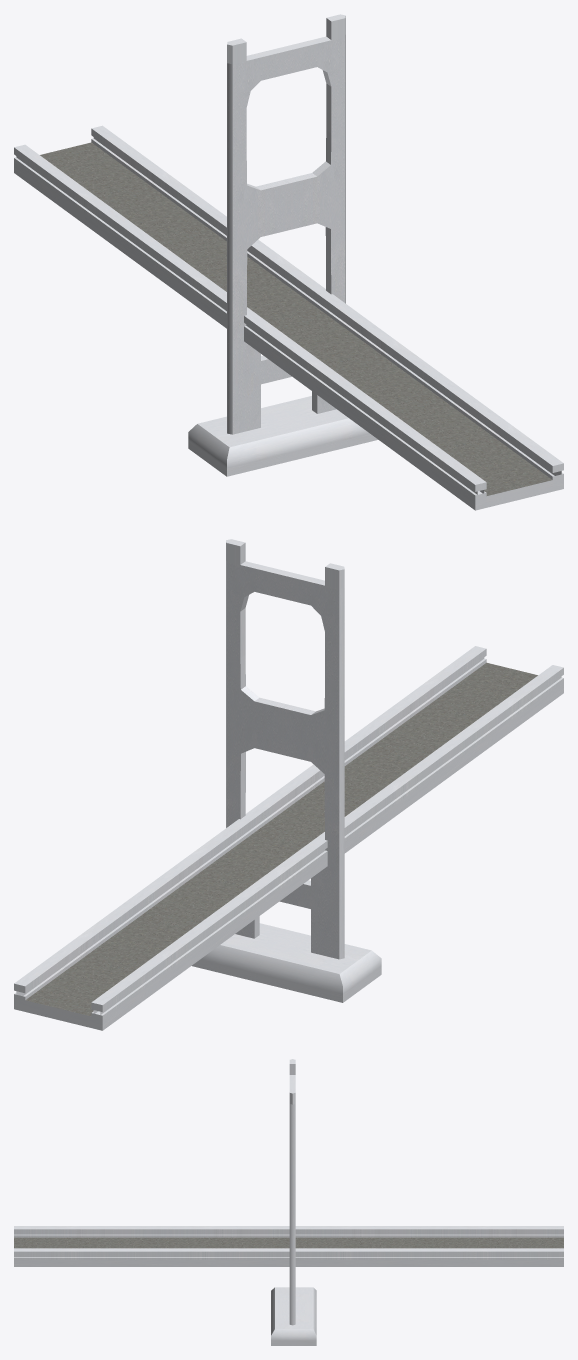
File: BridgeStreat 1.fbx
3 renders of one model, top to bottom at view 1: azimuth 30°, elevation 25°; view 2: azimuth 150°, elevation 25°; view 3: azimuth 270°, elevation 25°, orthographic. The views are drawn at different scales.
Visible parts, largest first — view 1: Box003, Box004, Box001, Box005, Box002, Box006; view 2: Box003, Box005, Box004, Box002, Box001, Box006; view 3: Box001, Box004, Box005, Box002, Box006, Box003.
Part boxes in pixels (x1,y1,x2,y2): Box003: (227,14,345,434); Box004: (359,378,563,510); Box001: (244,294,447,425); Box005: (14,125,217,257); Box002: (128,209,332,340); Box006: (188,396,378,476); Box003: (226,539,344,959); Box005: (14,899,218,1030); Box004: (360,646,563,777); Box002: (130,815,327,946); Box001: (245,730,448,853); Box006: (192,923,381,1002); Box001: (151,1226,289,1266); Box004: (14,1226,151,1266); Box005: (426,1226,563,1266); Box002: (289,1226,427,1266); Box006: (271,1287,316,1345); Box003: (289,1059,295,1325).
Size of the model in its own units: 889 by 2260 by 4559.
